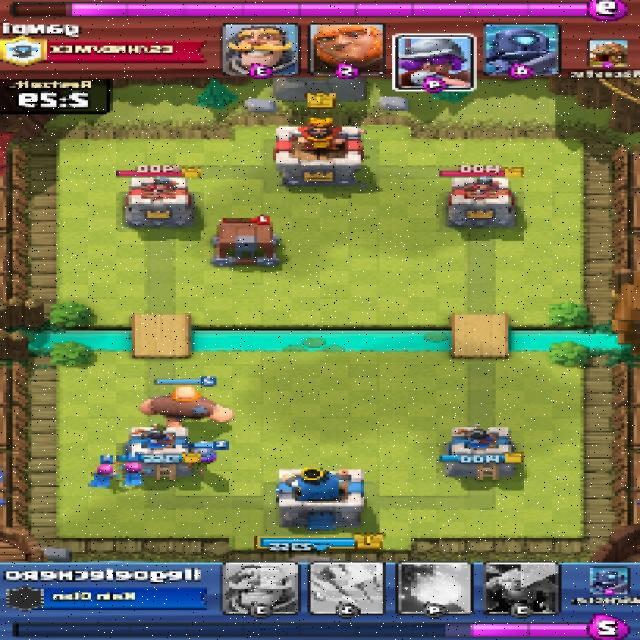Player-Archer: (122, 460, 155, 486), (84, 463, 120, 486)
Player-Giant: (139, 387, 233, 427)
Player-GoblinCage: (207, 221, 285, 267)
Player-Musketeer: (181, 441, 218, 465)
